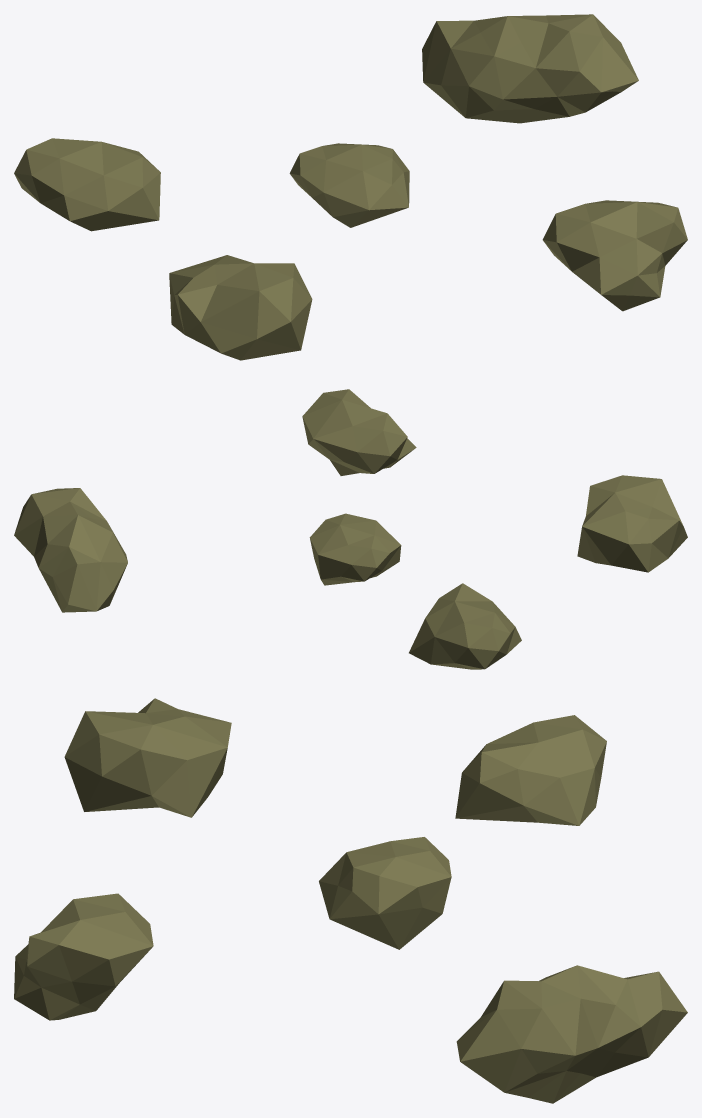
File: Steine_002.gltf
3 views of the same model, one above another, from view 1: azimuth 30°, elevation 25°; view 2: azimuth 150°, elevation 25°; view 3: azimuth 270°, elevation 25° (orthographic). The views are drawn at different scales.
Visible parts, largest first — view 1: Steine.002; view 2: Steine.002; view 3: Steine.002.
Part boxes in pixels (x1,y1,x2,y2): Steine.002: (14, 14, 687, 360); Steine.002: (14, 389, 687, 669); Steine.002: (14, 698, 687, 1103).
Bounding box in the file's own units: 0.8995 × 0.1417 × 0.7649.
